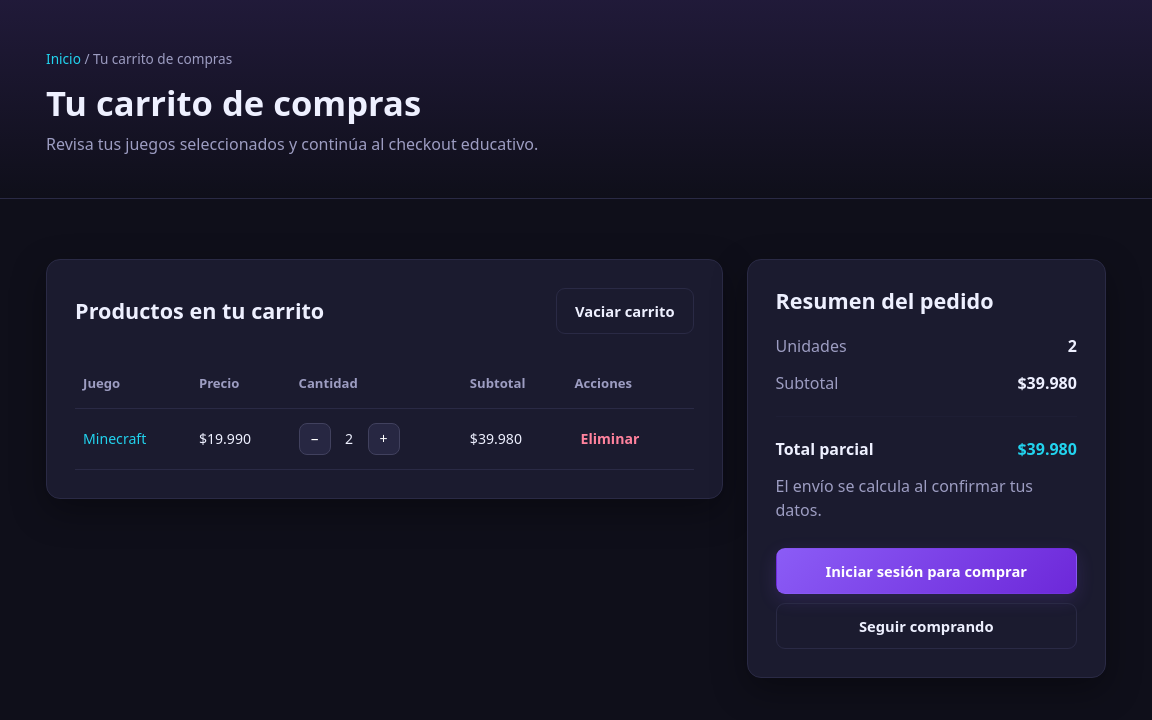
Test: Chromium: carrito de compras › PF-12: botón - reduce cantidad
The image size is (1152, 720).
Click the button named "Disminuir Minecraft": [315, 439] box [299,423,331,455]
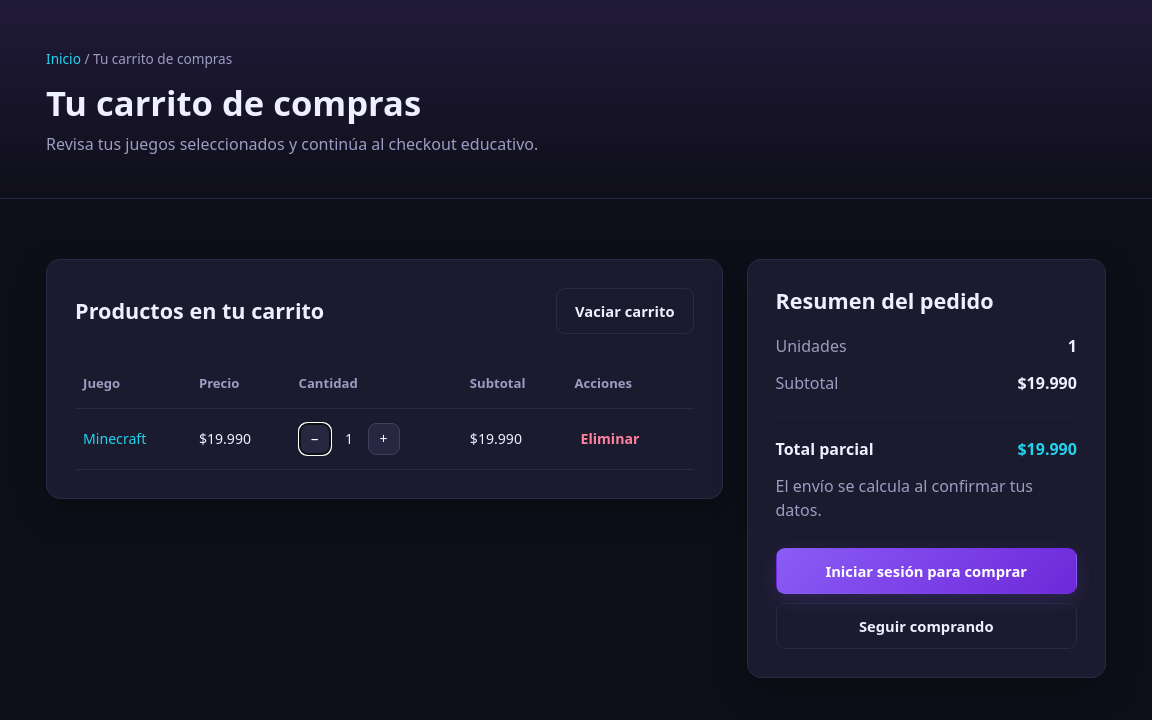
Expected: the text named "Cantidad de Minecraft" reads "1", [345,429,353,448]
